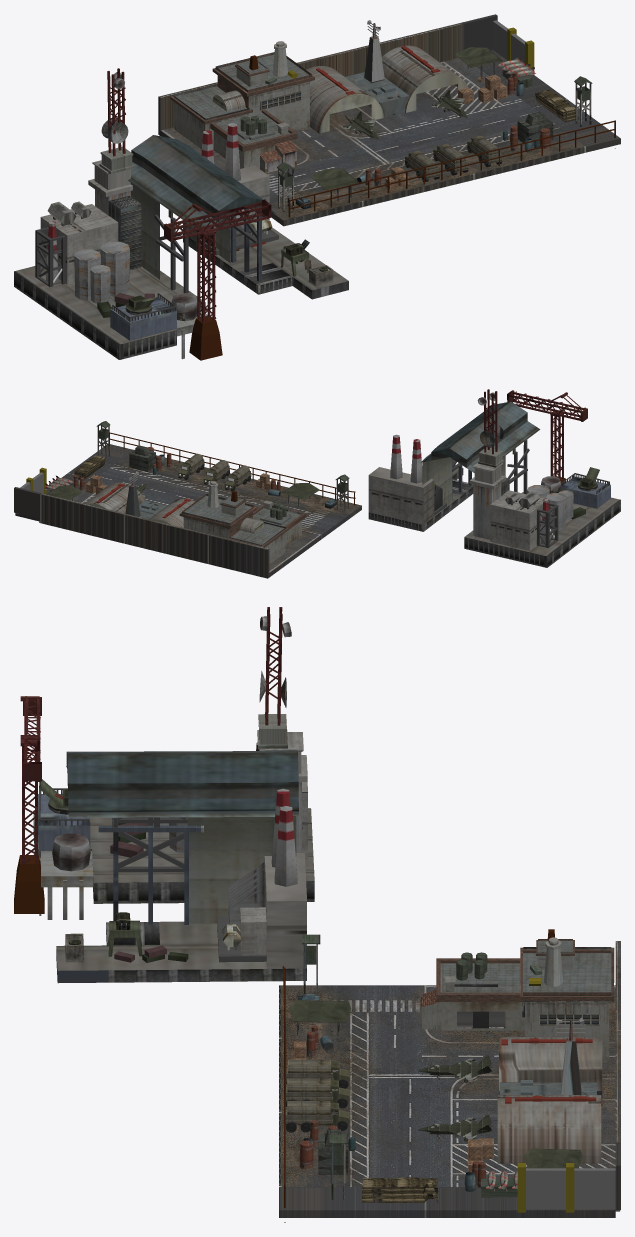
The model's file is airbase.glb.
3 renders of one model, top to bottom at view 1: azimuth 30°, elevation 25°; view 2: azimuth 150°, elevation 25°; view 3: azimuth 270°, elevation 25°, orthographic. The views are drawn at different scales.
Parts seen in each view (by area): view 1: Plane_11, Cube.094_133, Cube.093_134, Cube.002_218, Cube.140_89, Plane.006_6, Cube.139_90, Plane.005_7, Cube.095_132, Cube.131_96, Plane.003_8, Cube.212_66 (+30 smaller); view 2: Plane_11, Cube.140_89, Cube.094_133, Cube.093_134, Cube.002_218, Cube.139_90, Cube.136_92, Plane.012_1, Cube.095_132, Plane.006_6, Cube.212_66, Cube.189_69 (+21 smaller); view 3: Plane_11, Cube.094_133, Cube.140_89, Plane.012_1, Plane.006_6, Cube.093_134, Cube.002_218, Plane.005_7, Cube.028_195, Cube.042_185, Cube.016_204, Cube.015_205 (+23 smaller).
Boxes of the visible parts, <box> form: Plane_11: <box>158,14,620,226</box>; Cube.094_133: <box>128,135,277,227</box>; Cube.093_134: <box>14,266,205,359</box>; Cube.002_218: <box>170,52,314,149</box>; Cube.140_89: <box>183,165,348,299</box>; Plane.006_6: <box>381,45,467,112</box>; Cube.139_90: <box>40,204,118,284</box>; Plane.005_7: <box>306,66,384,133</box>; Cube.095_132: <box>110,297,176,340</box>; Cube.131_96: <box>108,195,141,270</box>; Plane.003_8: <box>130,183,159,279</box>; Cube.212_66: <box>164,199,271,241</box>; Plane_11: <box>14,444,361,578</box>; Cube.140_89: <box>368,467,473,531</box>; Cube.094_133: <box>421,401,540,472</box>; Cube.093_134: <box>464,492,620,567</box>; Cube.002_218: <box>179,494,288,564</box>; Cube.139_90: <box>490,490,544,550</box>; Cube.136_92: <box>473,484,501,539</box>; Plane.012_1: <box>422,457,452,504</box>; Cube.095_132: <box>561,476,610,508</box>; Plane.006_6: <box>84,482,145,513</box>; Cube.212_66: <box>507,390,587,421</box>; Cube.189_69: <box>550,414,563,480</box>; Plane_11: <box>279,941,620,1217</box>; Cube.094_133: <box>66,749,299,817</box>; Cube.140_89: <box>56,853,306,983</box>; Plane.012_1: <box>187,813,296,923</box>; Plane.006_6: <box>497,1095,601,1163</box>; Cube.093_134: <box>33,808,314,903</box>; Cube.002_218: <box>520,947,614,1062</box>; Plane.005_7: <box>499,1037,602,1106</box>; Cube.028_195: <box>526,1168,619,1211</box>; Cube.042_185: <box>523,953,611,992</box>; Cube.016_204: <box>436,958,522,1001</box>; Cube.015_205: <box>442,1002,524,1030</box>.
Size of what is drawn, in the model's own units: 2029 by 714 by 1310.
Materials: 19 (9 with a texture image).
